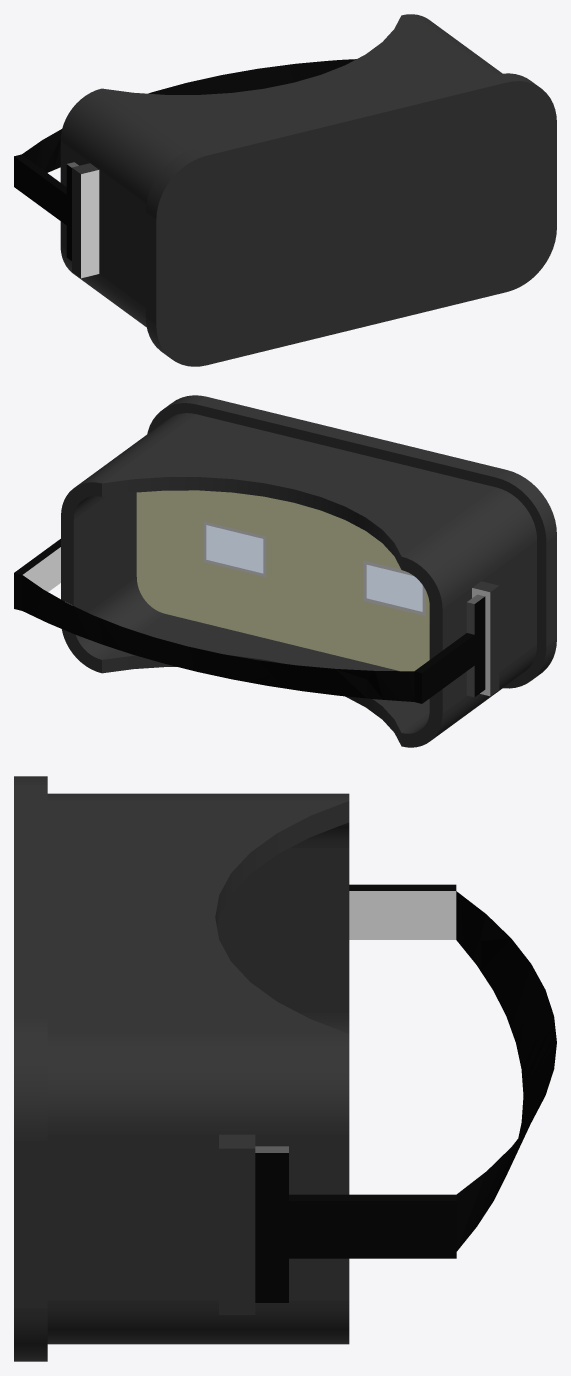
File: vrheadset.glb
The picture shows the model from 3 angles, top to bottom: view 1: azimuth 30°, elevation 25°; view 2: azimuth 150°, elevation 25°; view 3: azimuth 270°, elevation 25°; orthographic projection. The views are drawn at different scales.
Visible parts, largest first — view 1: SketchUp, SketchUp.001, SketchUp.018, SketchUp.011, SketchUp.008; view 2: SketchUp.001, SketchUp.002, SketchUp, SketchUp.018, SketchUp.011, SketchUp.005, SketchUp.006, SketchUp.017, SketchUp.003, SketchUp.007, SketchUp.015, SketchUp.004; view 3: SketchUp.001, SketchUp, SketchUp.015, SketchUp.018, SketchUp.012, SketchUp.011.
Part boxes in pixels (box(x1,y1,x2,y2)): SketchUp: box(145, 73, 556, 366); SketchUp.001: box(60, 14, 502, 327); SketchUp.018: box(22, 59, 356, 172); SketchUp.011: box(14, 154, 71, 260); SketchUp.008: box(81, 170, 99, 278); SketchUp.001: box(61, 413, 536, 747); SketchUp.002: box(136, 490, 429, 671); SketchUp: box(147, 395, 556, 688); SketchUp.018: box(22, 575, 414, 701); SketchUp.011: box(414, 596, 485, 703); SketchUp.005: box(206, 525, 263, 573); SketchUp.006: box(366, 565, 422, 611); SketchUp.017: box(23, 547, 60, 591); SketchUp.003: box(203, 521, 266, 577); SketchUp.007: box(472, 588, 490, 696); SketchUp.015: box(14, 539, 60, 610); SketchUp.004: box(363, 560, 425, 616); SketchUp.001: box(47, 793, 349, 1344); SketchUp: box(14, 776, 47, 1361); SketchUp.015: box(255, 1153, 456, 1302); SketchUp.018: box(456, 891, 556, 1251); SketchUp.012: box(349, 891, 456, 939); SketchUp.011: box(349, 884, 456, 890).
Bounding box in the file's own units: 0.2297 × 0.11 × 0.1619.
